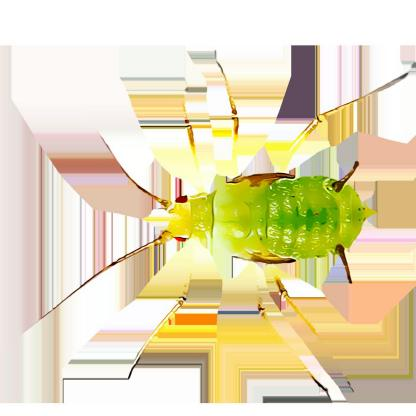aphid: (96, 140, 370, 301)
